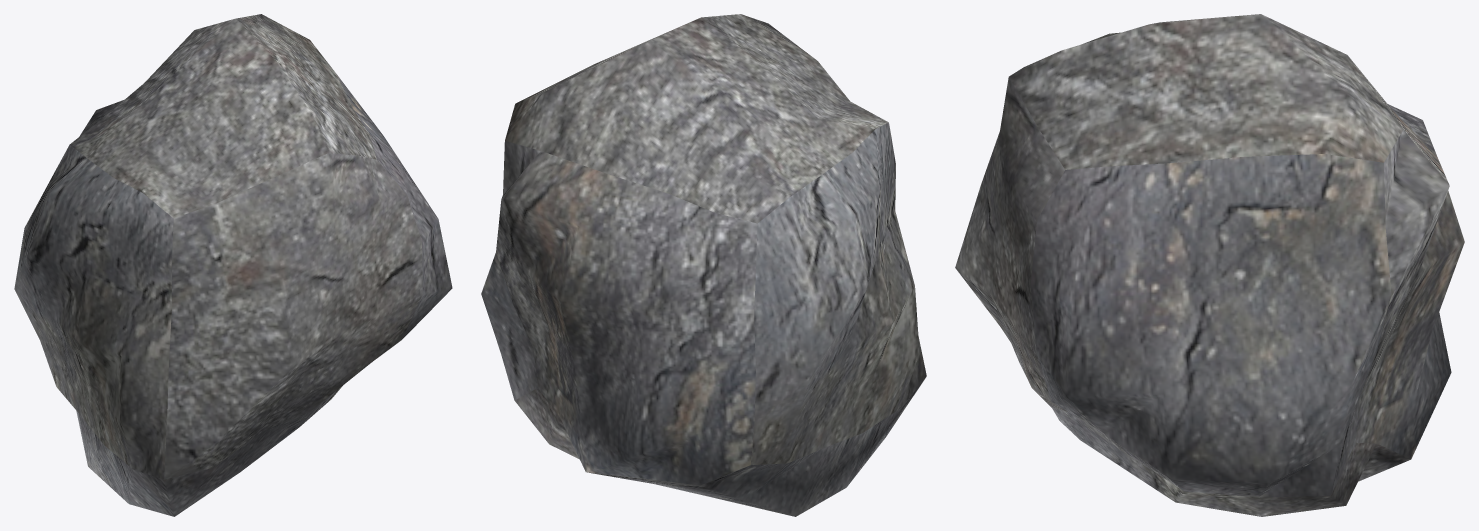
The model's file is japanese_rock_03.FBX.
3 views of the same model, side by side, from view 1: azimuth 30°, elevation 25°; view 2: azimuth 150°, elevation 25°; view 3: azimuth 270°, elevation 25° (orthographic). The views are drawn at different scales.
Visible parts, largest first — view 1: rock_03; view 2: rock_03; view 3: rock_03.
Boxes of the visible parts, x1,y1,x2,y2 form: rock_03: (14,14,452,516); rock_03: (481,14,926,516); rock_03: (955,14,1464,516).
Size of the model in its own units: 103 by 120 by 106.
